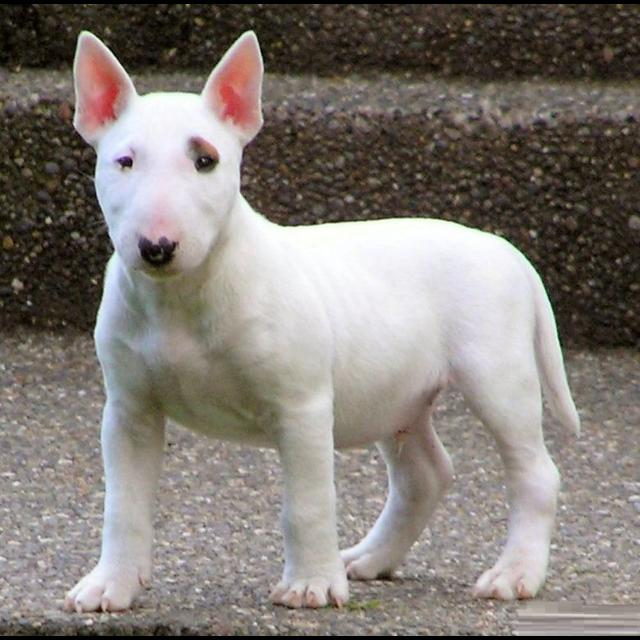bullterrier: (64, 29, 582, 615)
